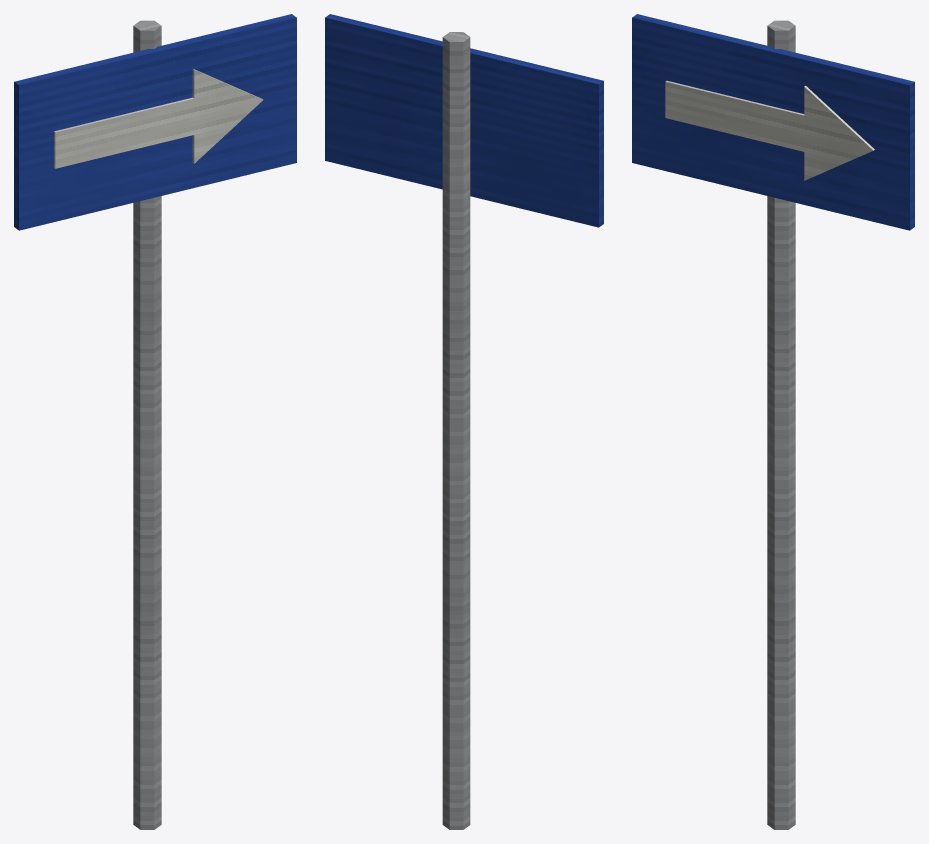
The model's file is placa_seta.glb.
The picture shows the model from 3 angles, left to right: view 1: azimuth 30°, elevation 25°; view 2: azimuth 150°, elevation 25°; view 3: azimuth 330°, elevation 25°; orthographic projection.
Parts seen in each view (by area): view 1: Inteiro, Peca_01; view 2: Inteiro; view 3: Inteiro.
Part boxes in pixels (left/top/right/bottom): Inteiro: left=14, top=14, right=296, bottom=829; Peca_01: left=14, top=26, right=241, bottom=229; Inteiro: left=325, top=14, right=603, bottom=829; Inteiro: left=632, top=14, right=914, bottom=829.
Bounding box in the file's own units: 0.8 × 2.2 × 0.095.
1 material, 1 textured.
